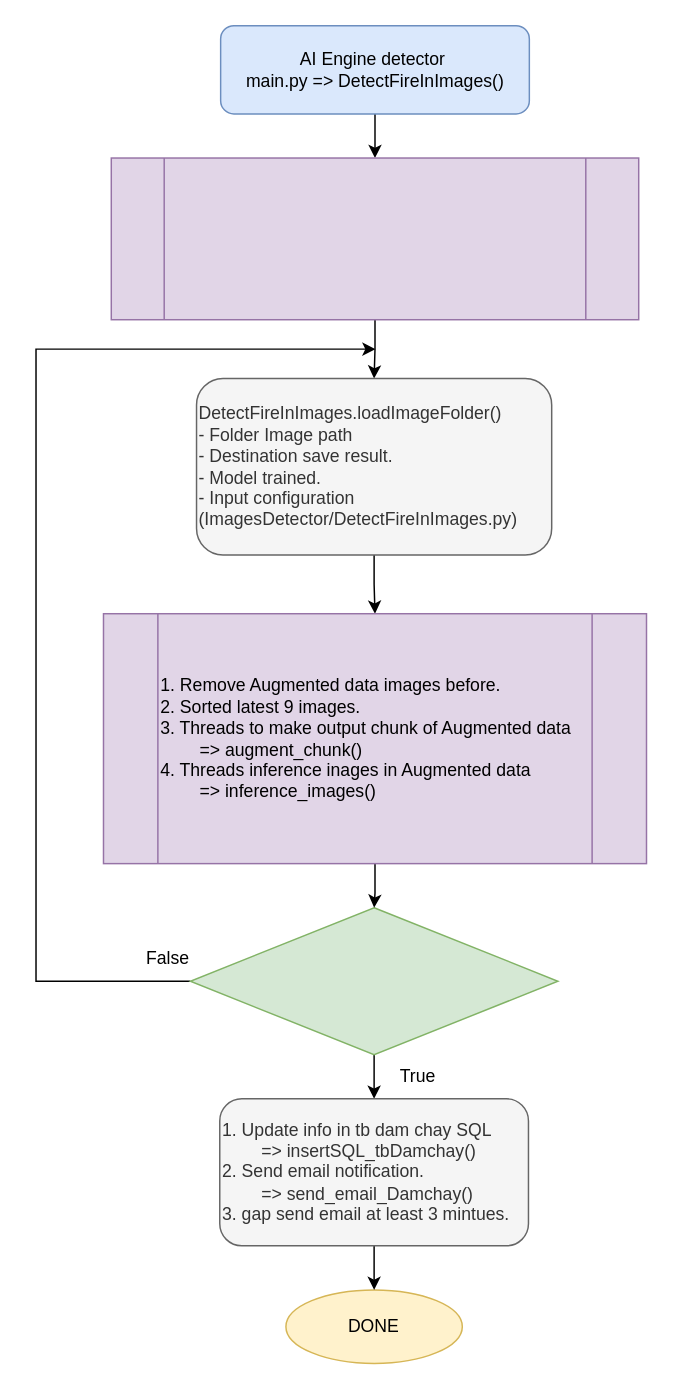
Image size: 673x1389. Some labels were removed from this diagram. Each missing label, with the centre of its shape:
"Load trained model: LoadTrainedModel.loadModel() (main.py)" goes at point (374, 238).
"Result detected?" goes at point (373, 980).
